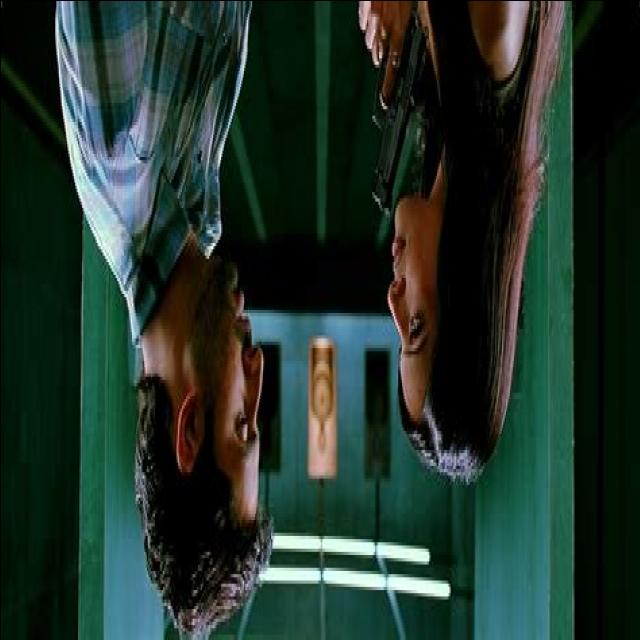weapons: (350, 0, 438, 230)
